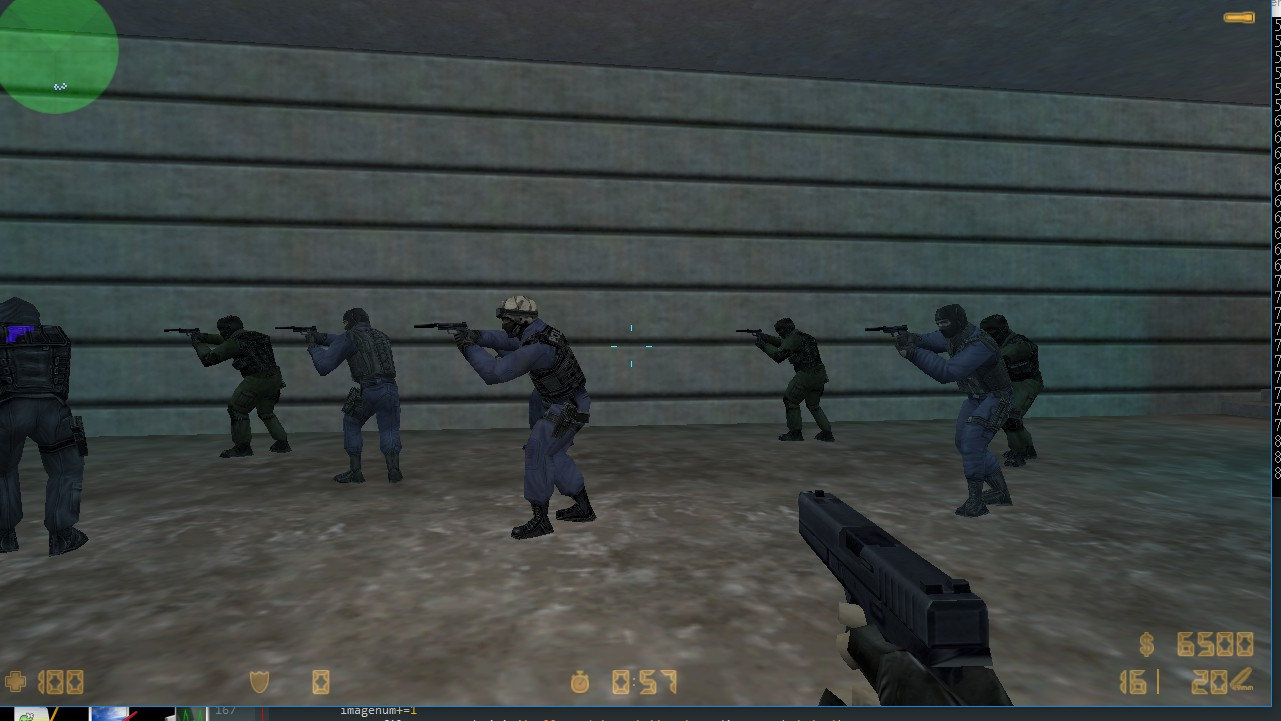person: (477, 293, 605, 545), (1, 286, 93, 562), (921, 300, 1014, 526), (326, 297, 424, 500), (976, 306, 1050, 474), (207, 309, 289, 457), (761, 310, 841, 450)
